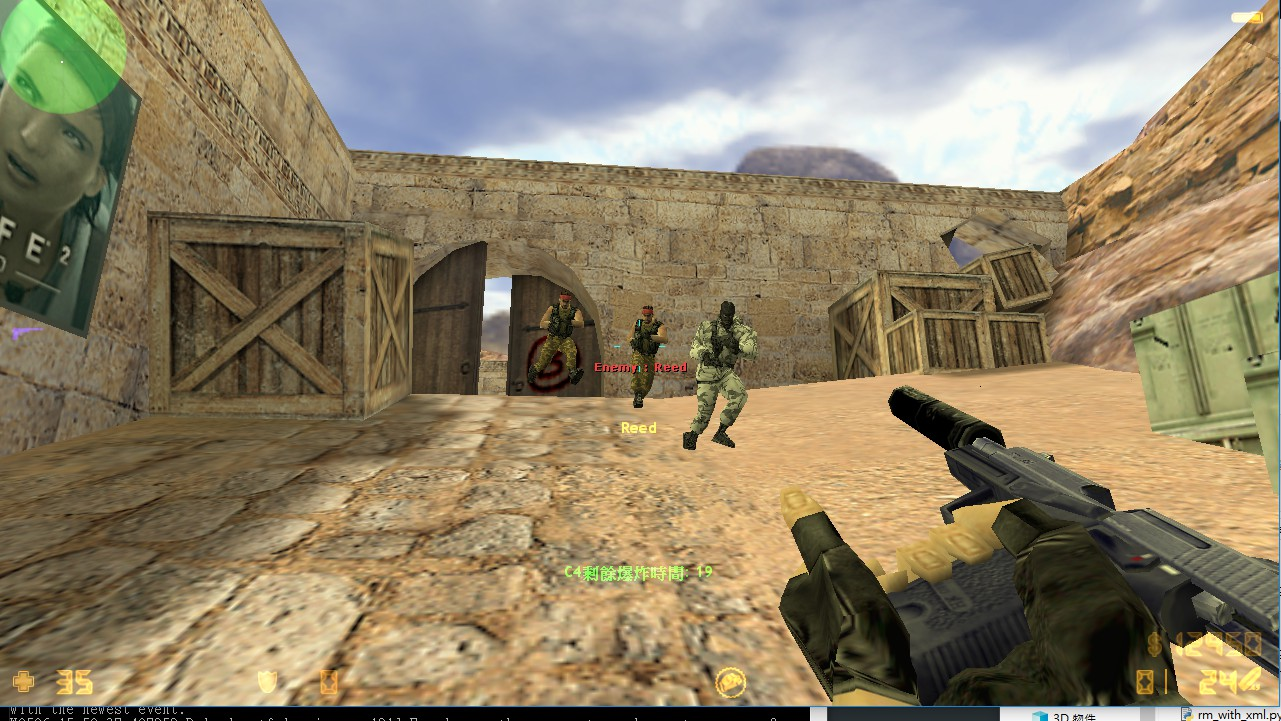person: (690, 296, 760, 456), (532, 291, 588, 385), (624, 300, 662, 407)
